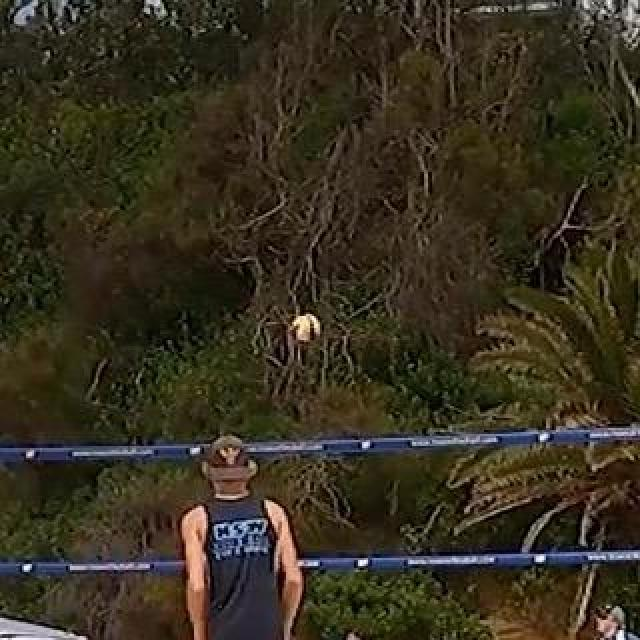volleyball: (293, 316, 321, 344)
